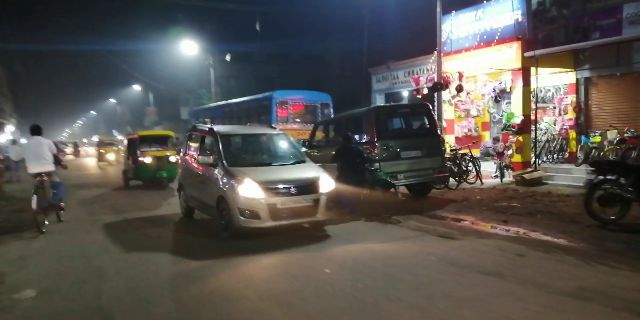Autorickshaw: (121, 129, 179, 192)
Bus: (176, 88, 333, 137)
Car: (183, 120, 333, 241), (303, 107, 450, 193)
Cycle: (18, 121, 70, 240)
